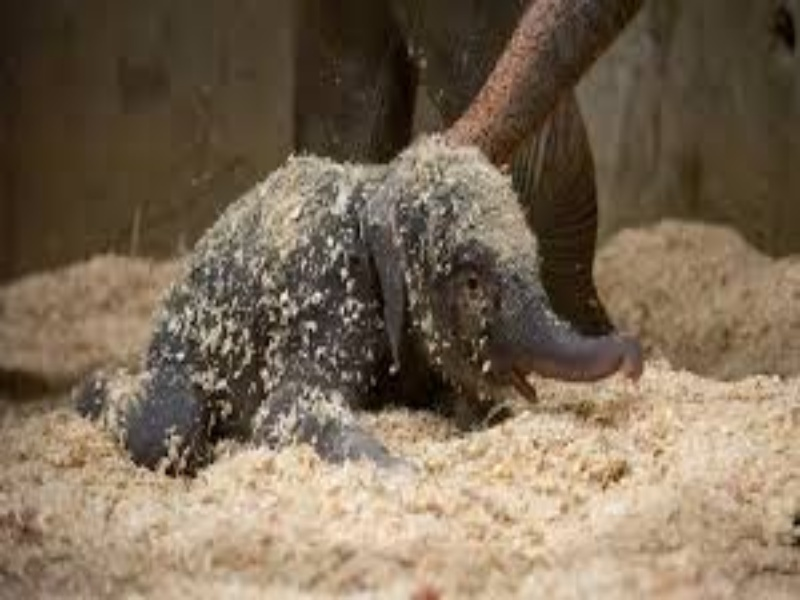elephant: (83, 128, 642, 508)
